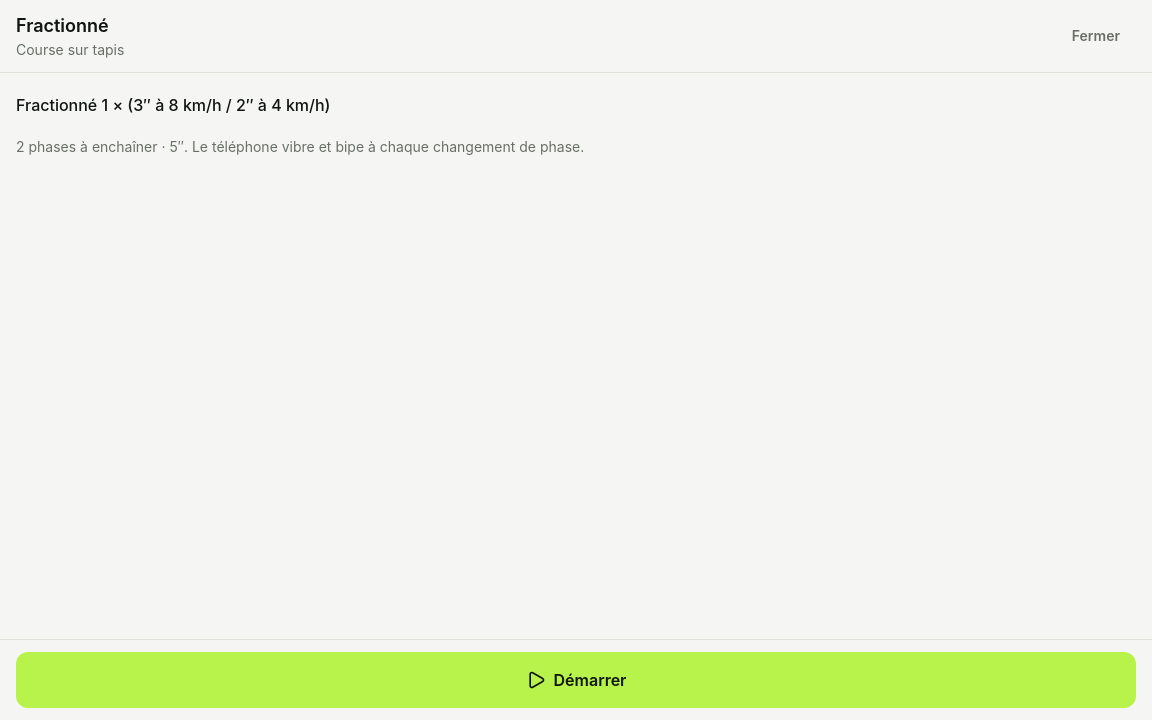
Scenario: IntervalTimerSheet › n’enregistre rien quand on abandonne
Later steps or results of the test are not shown.
Click the button "Démarrer" at (576, 680), box 16,652 -> 1136,708
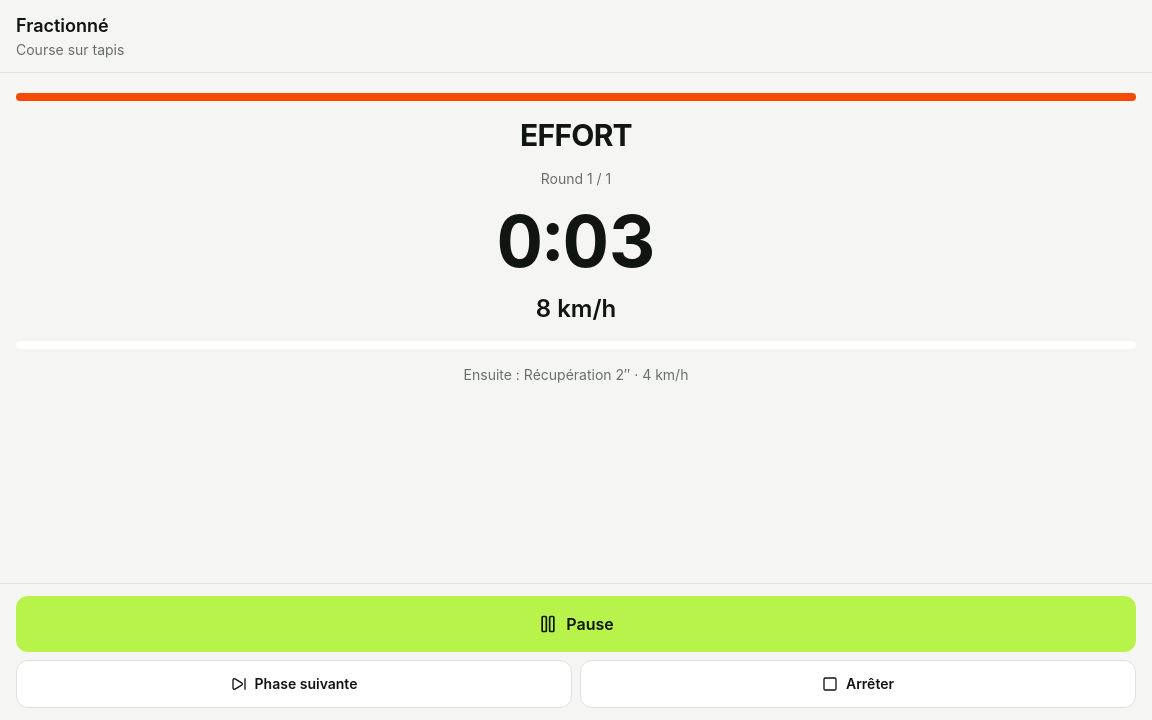
Click the button "Arrêter" at (858, 684), box 580,660 -> 1136,708
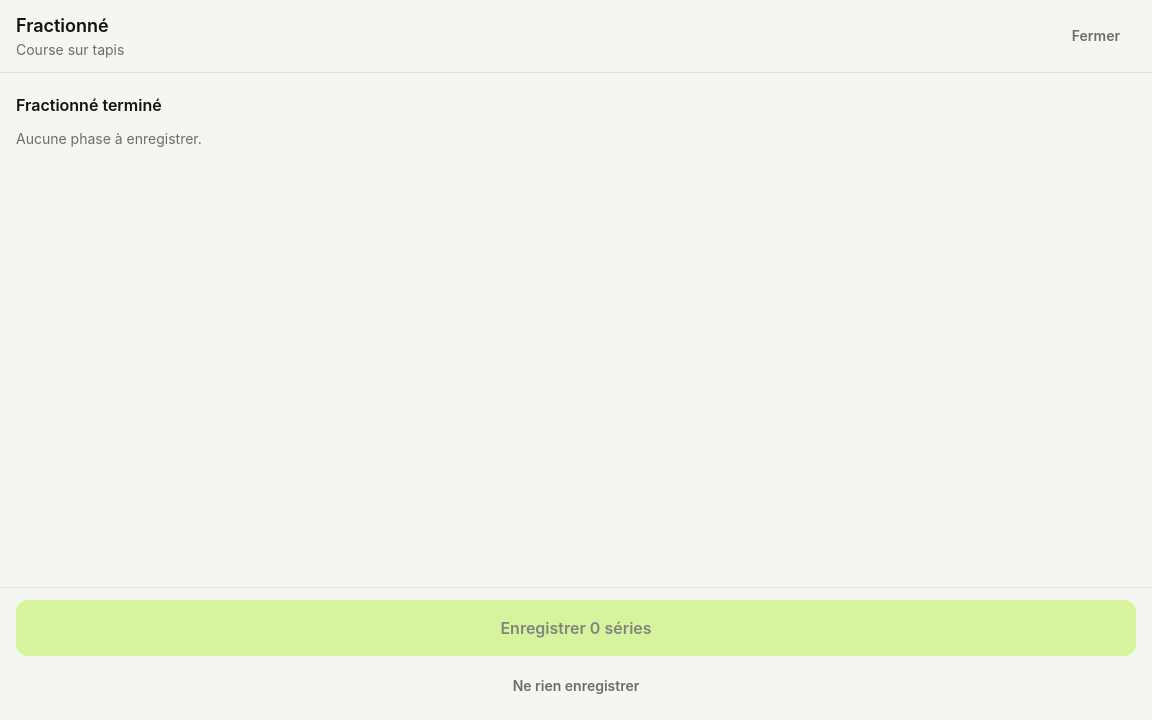
Now the text "Fractionné terminé" is shown, box 16,95 -> 162,115
